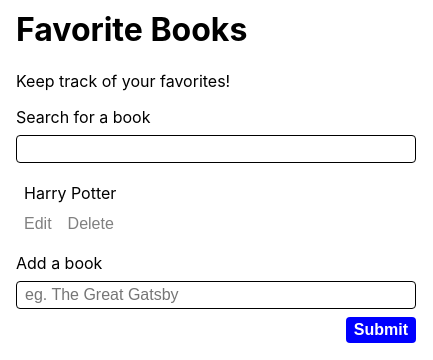
Test: App › deleting › should be able to delete
The width and height of the screenshot is (433, 360).
Expected: the text "Harry Potter" is shown, [16,179,124,207]
Click the button "Delete".
click(91, 224)  # box [60,211,122,237]
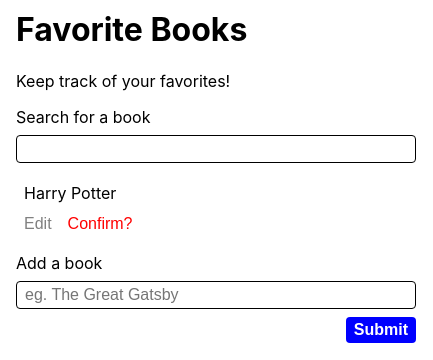
Click the button "Confirm?".
click(100, 224)  # box [60,211,140,237]
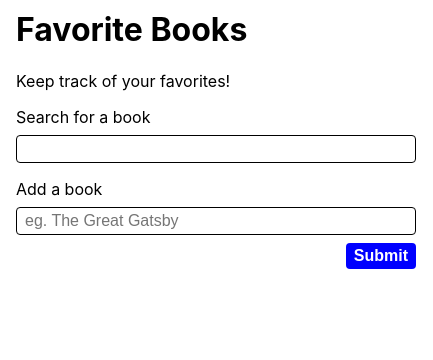
Now the text "Harry Potter" is gone
